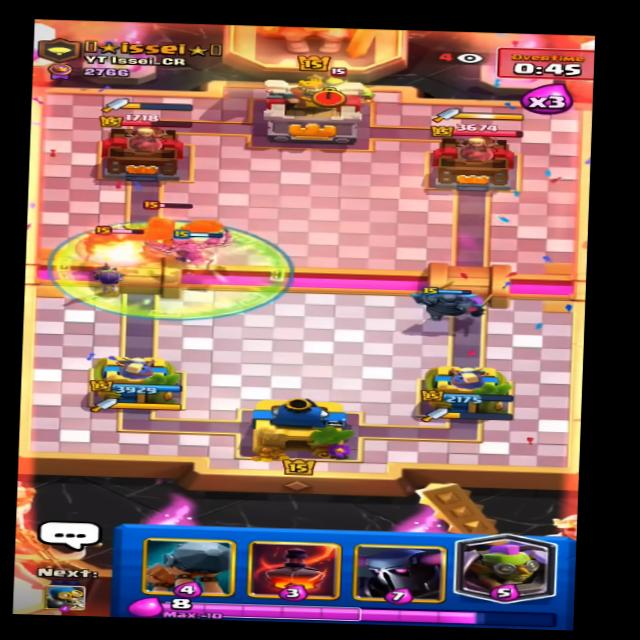goblin-demolisher: (311, 62, 376, 105)
pekka: (82, 219, 171, 263)
phoenix: (122, 201, 219, 252)
